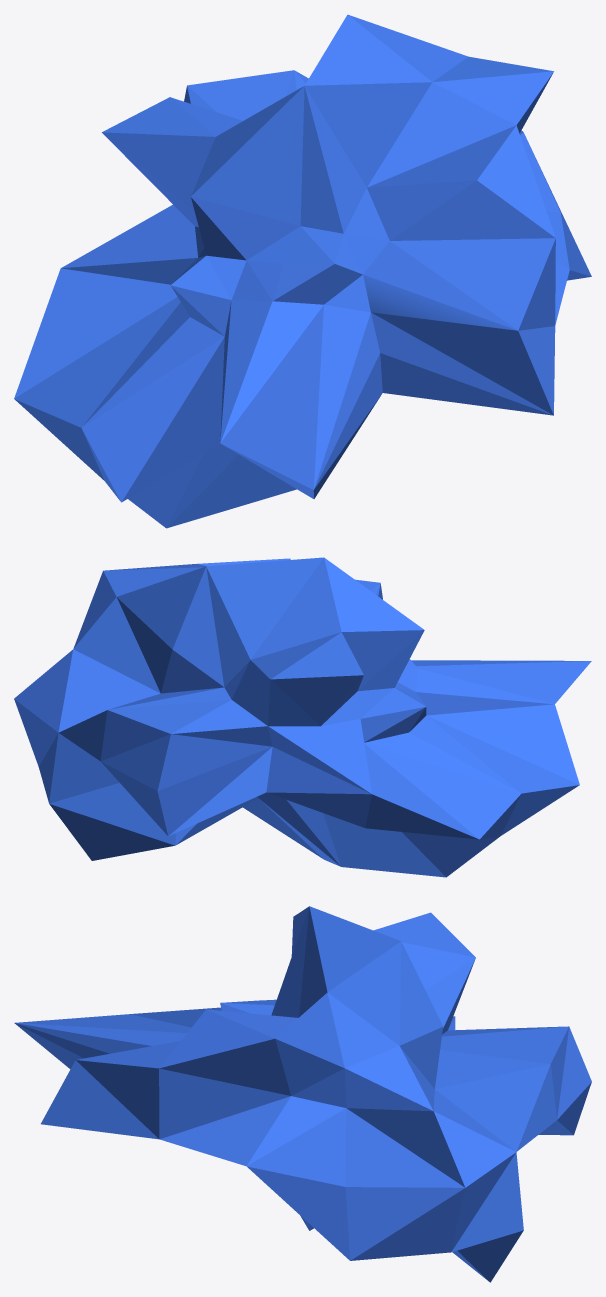
The model's file is cloud.glb.
3 renders of one model, top to bottom at view 1: azimuth 30°, elevation 25°; view 2: azimuth 150°, elevation 25°; view 3: azimuth 270°, elevation 25°, orthographic. The views are drawn at different scales.
Parts seen in each view (by area): view 1: cloud; view 2: cloud; view 3: cloud.
Boxes of the visible parts, x1,y1,x2,y2 form: cloud: (14,14,591,528); cloud: (14,557,591,877); cloud: (14,906,591,1282).
Size of the model in its own units: 10.06 by 6.78 by 10.78.
